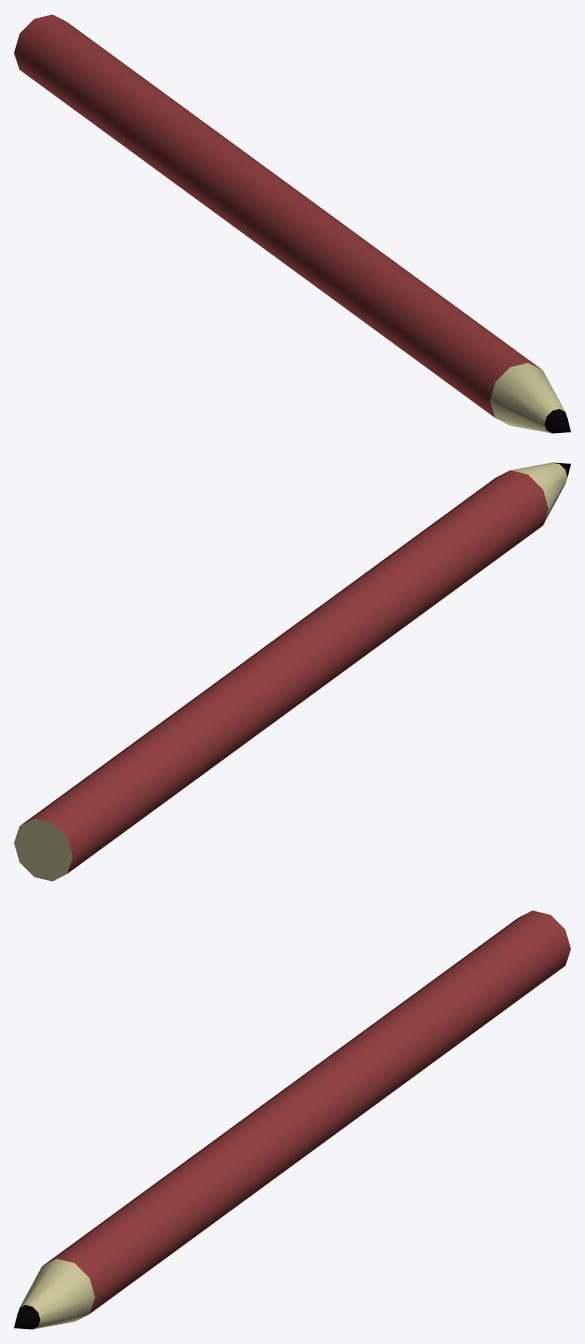
File: SM_Prop_Pencil.fbx
The picture shows the model from 3 angles, top to bottom: view 1: azimuth 30°, elevation 25°; view 2: azimuth 150°, elevation 25°; view 3: azimuth 330°, elevation 25°; orthographic projection.
Parts seen in each view (by area): view 1: SM_Prop_Pencil; view 2: SM_Prop_Pencil; view 3: SM_Prop_Pencil.
Part boxes in pixels (left/top/right/bottom): SM_Prop_Pencil: left=14, top=14, right=570, bottom=433; SM_Prop_Pencil: left=14, top=462, right=570, bottom=881; SM_Prop_Pencil: left=14, top=910, right=570, bottom=1329.
Size of the model in its own units: 1 by 0.9511 by 15.53.
